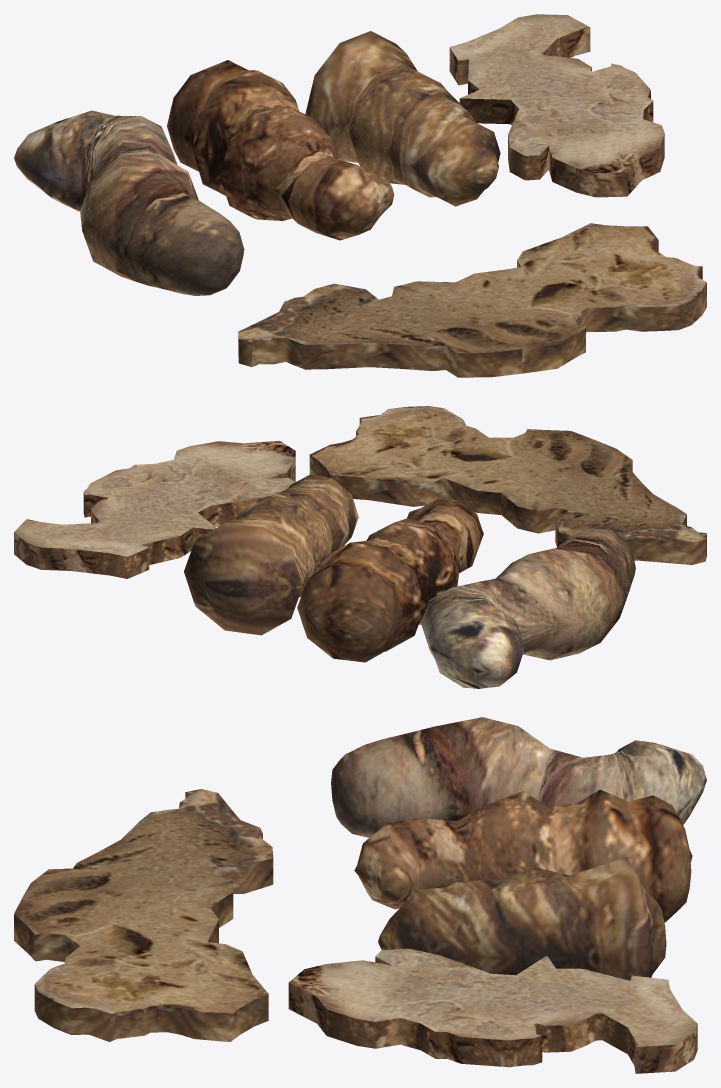
Rendered from chonglou.FBX.
3 views of the same model, one above another, from view 1: azimuth 30°, elevation 25°; view 2: azimuth 150°, elevation 25°; view 3: azimuth 270°, elevation 25° (orthographic). The views are drawn at different scales.
Parts seen in each view (by area): view 1: Line002, Line001, Cylinder003, Cylinder002, Cylinder001; view 2: Line002, Line001, Cylinder003, Cylinder002, Cylinder001; view 3: Line002, Line001, Cylinder003, Cylinder002, Cylinder001.
Part boxes in pixels (x1,y1,x2,y2): Line002: (238, 223, 706, 377); Line001: (449, 14, 664, 197); Cylinder003: (14, 110, 244, 295); Cylinder002: (167, 60, 394, 240); Cylinder001: (305, 31, 500, 206); Line002: (309, 406, 706, 564); Line001: (14, 440, 295, 578); Cylinder003: (421, 527, 635, 688); Cylinder002: (297, 498, 483, 662); Cylinder001: (184, 474, 358, 635); Line002: (14, 789, 273, 1041); Line001: (288, 948, 697, 1073); Cylinder003: (331, 717, 706, 837); Cylinder002: (354, 789, 692, 922); Cylinder001: (378, 856, 666, 980).
Bounding box in the file's own units: 49.29 × 9.69 × 46.9.
Materials: 1 (1 with a texture image).
